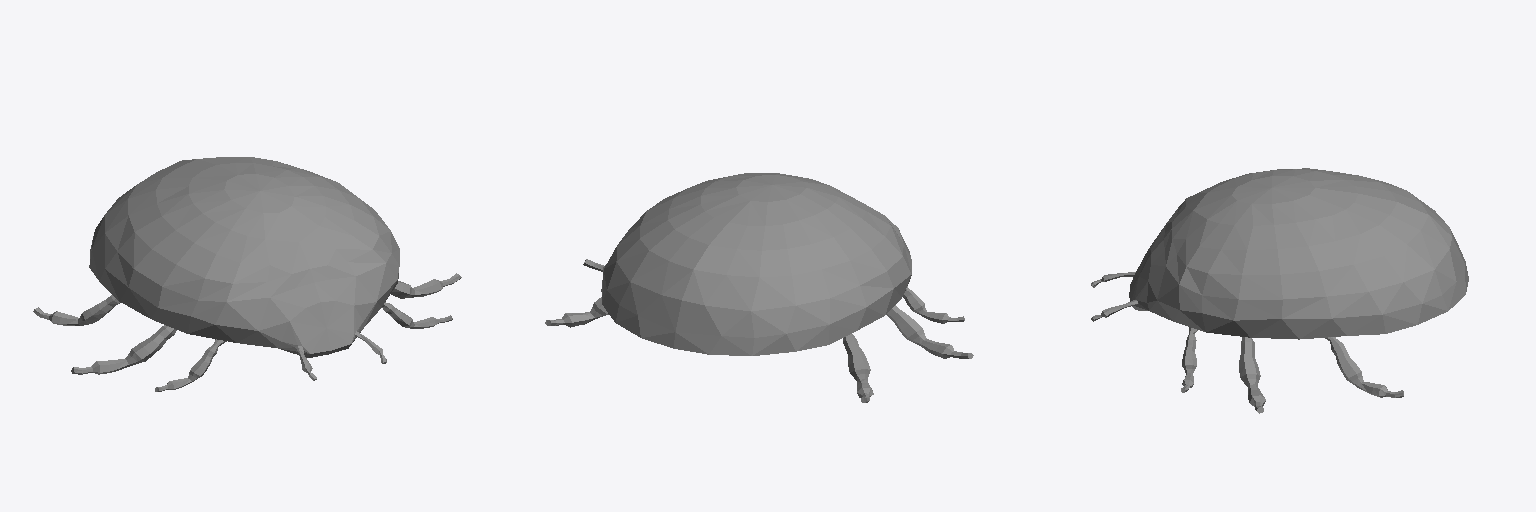
File: ladybug.obj
The picture shows the model from 3 angles: view 1: azimuth 30°, elevation 25°; view 2: azimuth 150°, elevation 25°; view 3: azimuth 270°, elevation 25°; orthographic projection.
Visible parts, largest first — view 1: ladybug, leg2, leg3, leg1, leg5, leg6; view 2: ladybug, leg2, leg3, leg4, leg1; view 3: ladybug, leg4, leg5, leg6.
Part boxes in pixels (x1,y1,x2,y2): ladybug: (89,157,399,357); leg2: (71,325,176,374); leg3: (33,295,120,325); leg1: (155,339,226,391); leg5: (391,273,461,298); leg6: (382,302,452,328); ladybug: (601,173,911,355); leg2: (886,305,973,358); leg3: (843,334,873,402); leg4: (545,297,608,327); leg1: (903,286,964,323); ladybug: (1129,168,1468,339); leg4: (1325,337,1403,397); leg5: (1239,337,1265,413); leg6: (1181,327,1197,392).
Size of the model in its own units: 0.3812 by 0.1278 by 0.3216.